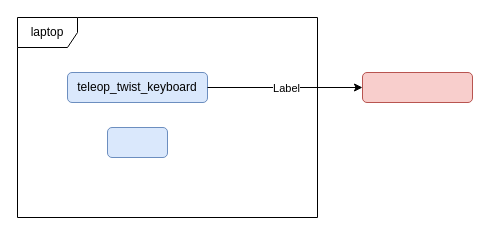
This 490x235 diagram has some shape labels left out. The box of each missing label's shape, as (x1, y1, x2, y2) in pixels:
controller_node: (362, 72, 472, 102)
RViz: (106, 126, 168, 158)
